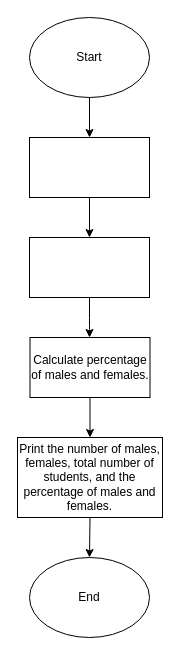
Image size: 180x655. Some labels were removed from this diagram. Each missing label, with the centre of its shape:
"Ask user for integer values for males and females" goes at pixel 89 167.
"Calculate total number for students." goes at pixel 89 267.
